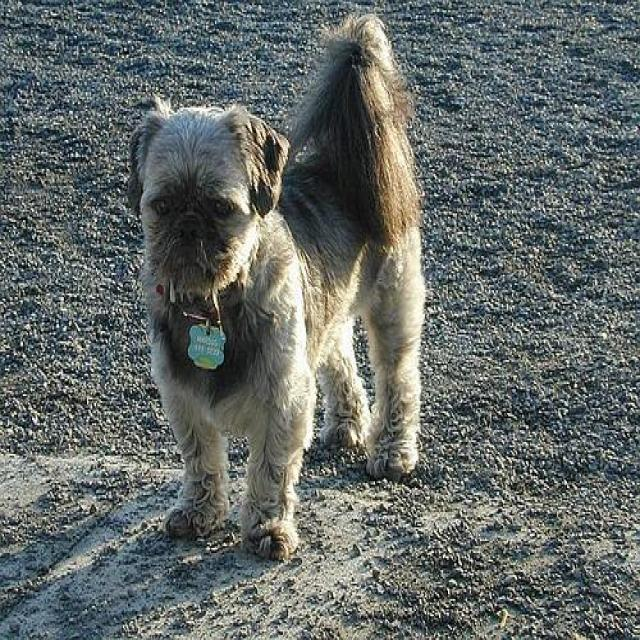shih_tzu: (120, 10, 424, 563)
